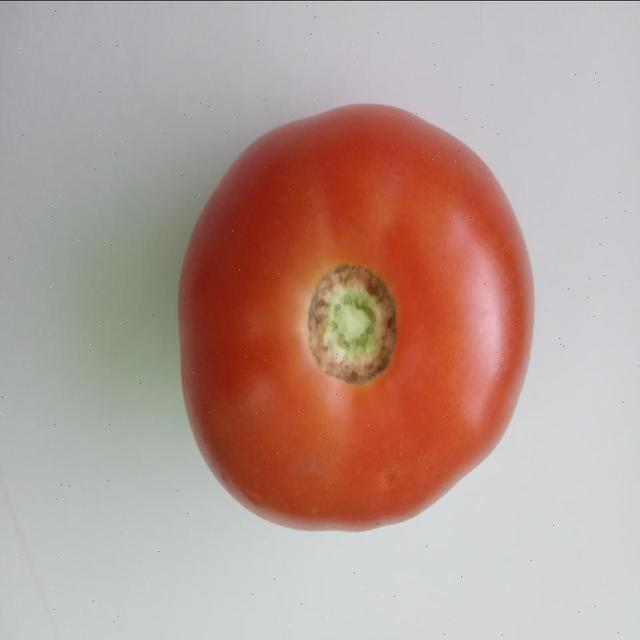Healthy Fruit: (116, 66, 362, 358)
